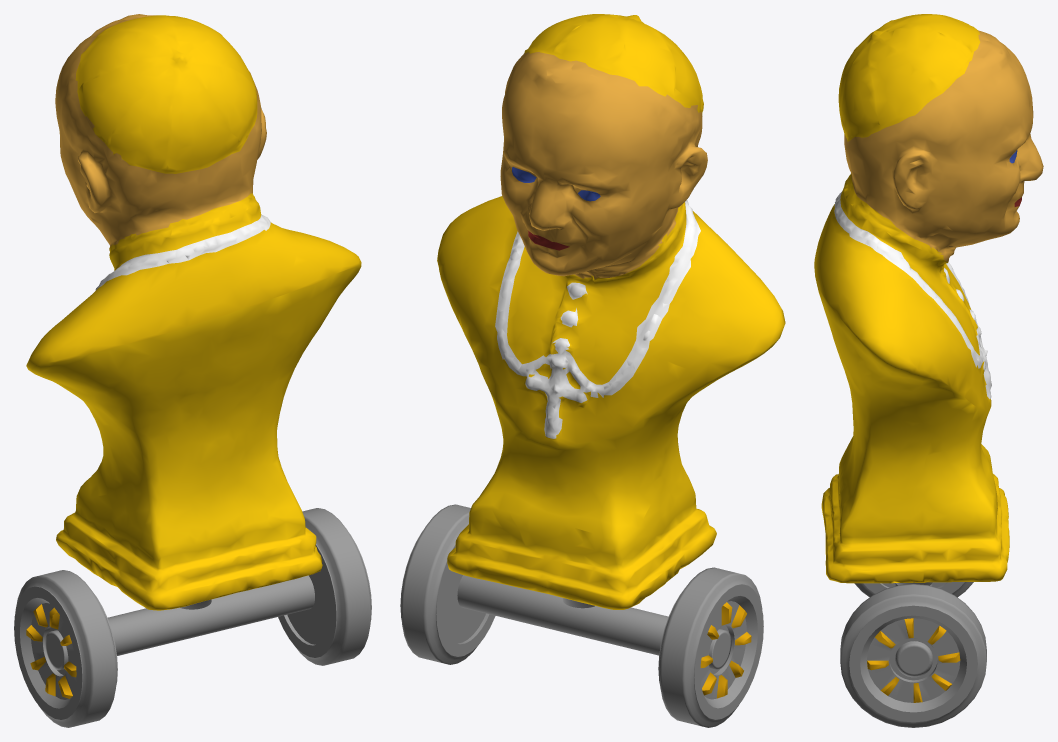
File: skinID3.fbx
3 renders of one model, left to right at view 1: azimuth 30°, elevation 25°; view 2: azimuth 150°, elevation 25°; view 3: azimuth 270°, elevation 25°, orthographic. The views are drawn at different scales.
Visible parts, largest first — view 1: papiezw, Cylinder, Cylinder.001; view 2: papiezw, Cylinder, Cylinder.001; view 3: papiezw, Cylinder, Cylinder.001.
Boxes of the visible parts, left/top/right/bottom form: papiezw: left=26, top=14, right=361, bottom=610; Cylinder: left=14, top=508, right=371, bottom=727; Cylinder.001: left=45, top=575, right=314, bottom=670; papiezw: left=437, top=14, right=785, bottom=609; Cylinder: left=400, top=504, right=763, bottom=727; Cylinder.001: left=457, top=575, right=731, bottom=669; papiezw: left=814, top=14, right=1043, bottom=583; Cylinder: left=840, top=582, right=986, bottom=727; Cylinder.001: left=895, top=582, right=932, bottom=677.
Size of the model in its own units: 518 by 1004 by 332.
